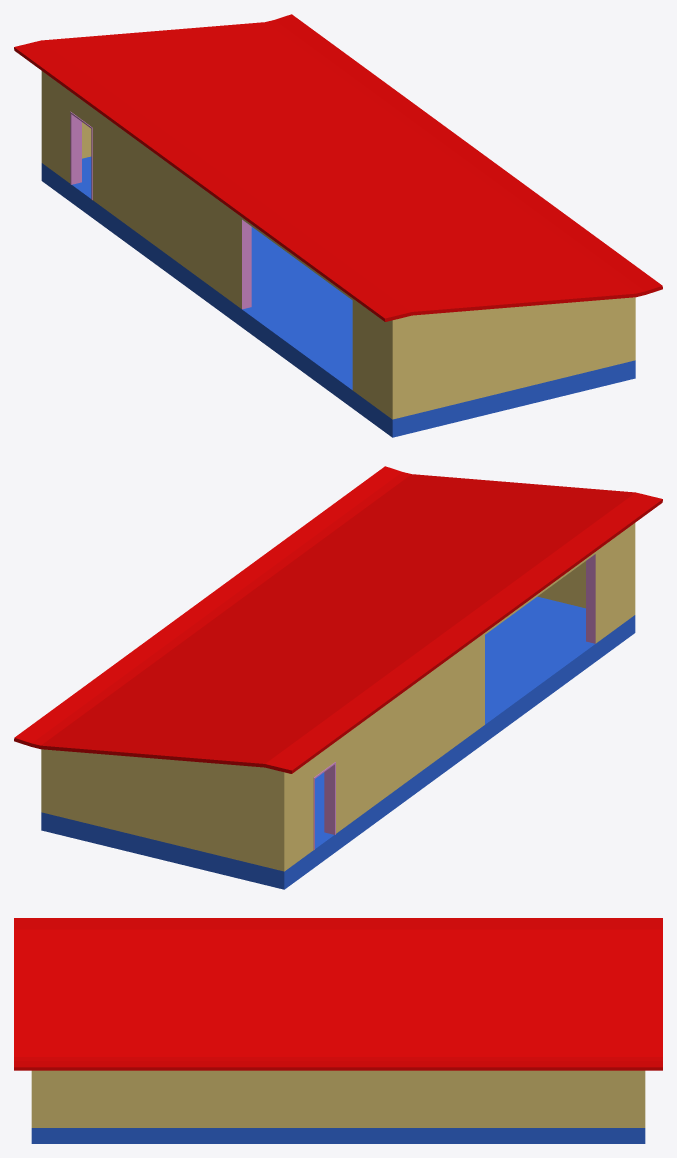
File: barn.fbx
3 views of the same model, one above another, from view 1: azimuth 30°, elevation 25°; view 2: azimuth 150°, elevation 25°; view 3: azimuth 270°, elevation 25° (orthographic). The views are drawn at different scales.
Visible parts, largest first — view 1: Cube; view 2: Cube; view 3: Cube.
Boxes of the visible parts, bbox=[...] form: Cube: bbox=[14, 14, 662, 437]; Cube: bbox=[14, 466, 662, 889]; Cube: bbox=[14, 918, 662, 1143].
Bounding box in the file's own units: 1601 × 720 × 3700.
